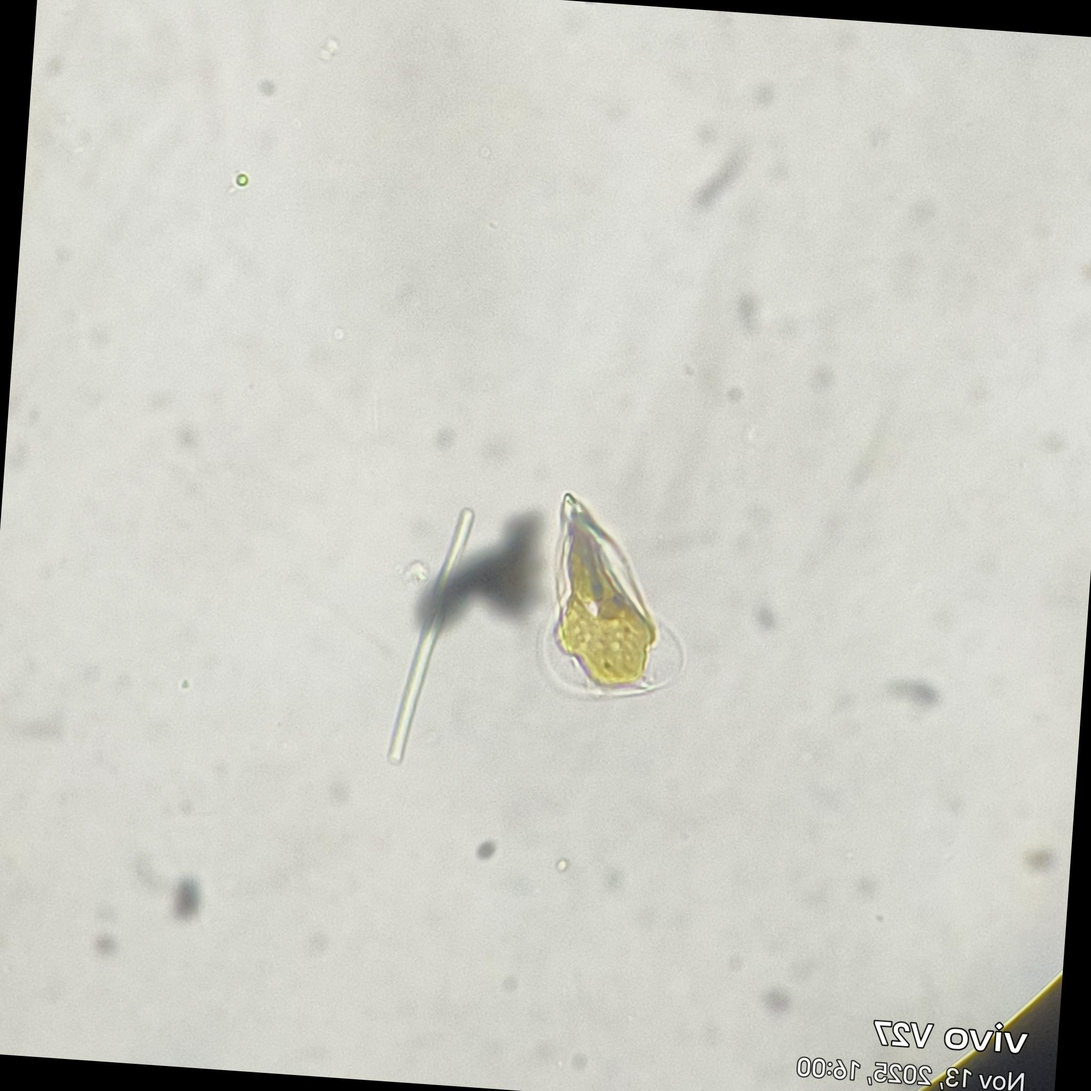Euglena: (534, 483, 709, 714)
